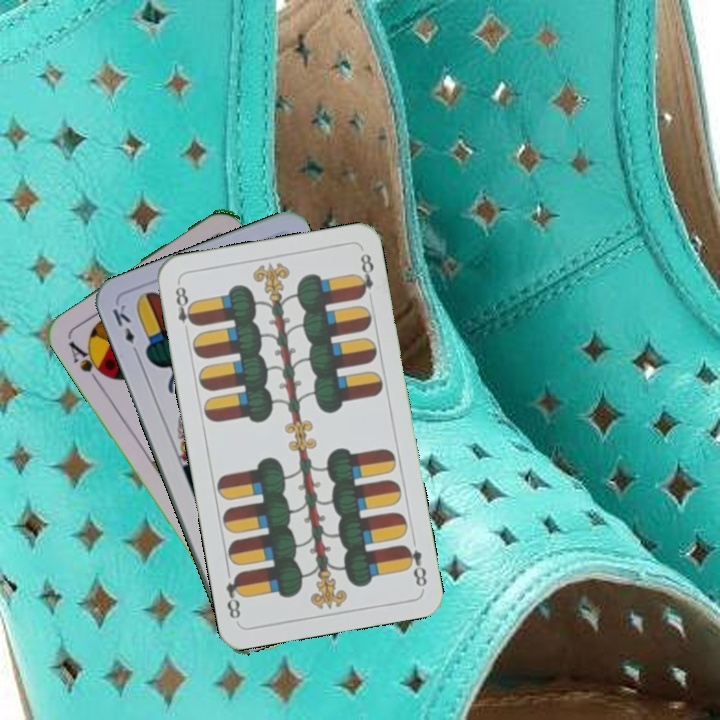E8: (171, 279, 199, 338), (399, 540, 430, 590)
EK: (108, 300, 142, 358)
SA: (64, 337, 110, 387)
